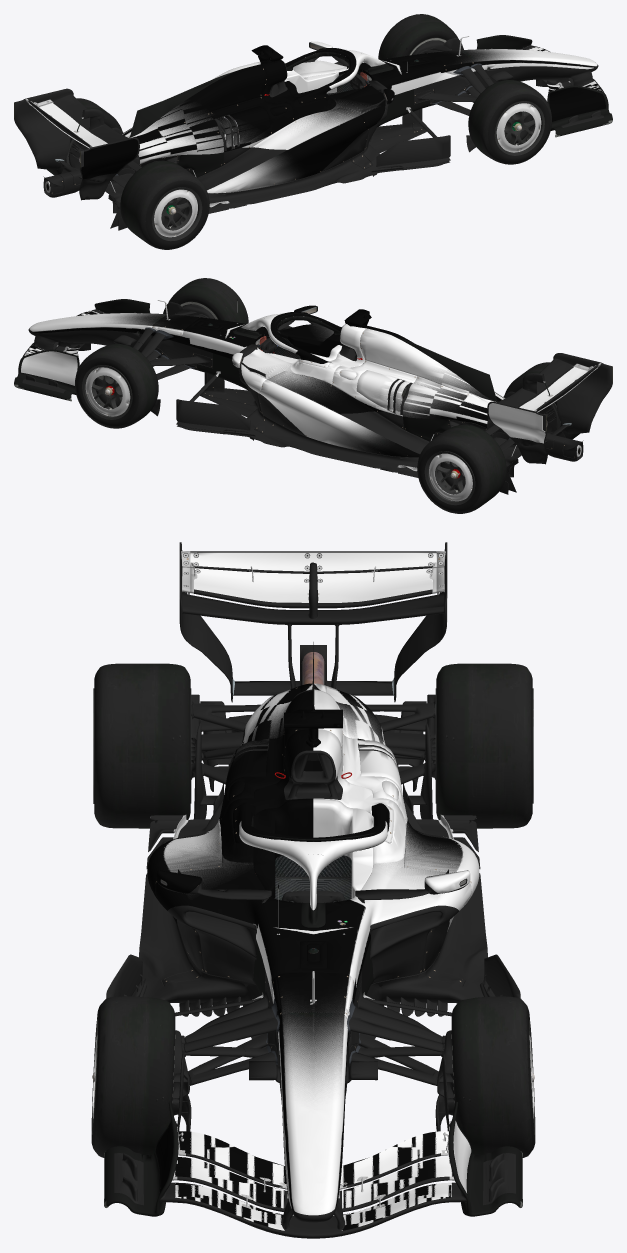
File: cadillac.glb
3 views of the same model, one above another, from view 1: azimuth 30°, elevation 25°; view 2: azimuth 150°, elevation 25°; view 3: azimuth 270°, elevation 25° (orthographic). The views are drawn at different scales.
Visible parts, largest first — view 1: Object_7, Object_5, Object_18, Object_10, Object_16, Object_19, Object_12, Object_15; view 2: Object_7, Object_5, Object_18, Object_10, Object_16, Object_19, Object_12, Object_15; view 3: Object_7, Object_5, Object_18, Object_10, Object_12, Object_19, Object_15, Object_16.
Part boxes in pixels (x1,y1,x2,y2): Object_7: [33, 41, 612, 193]; Object_5: [14, 37, 604, 230]; Object_18: [47, 14, 551, 249]; Object_10: [129, 35, 612, 177]; Object_16: [66, 37, 544, 241]; Object_19: [61, 31, 550, 247]; Object_12: [25, 36, 570, 207]; Object_15: [218, 71, 371, 147]; Object_7: [14, 305, 593, 457]; Object_5: [22, 301, 612, 494]; Object_18: [75, 278, 580, 513]; Object_10: [14, 299, 497, 441]; Object_16: [82, 301, 560, 505]; Object_19: [76, 295, 565, 511]; Object_12: [56, 299, 601, 471]; Object_15: [255, 335, 408, 411]; Object_7: [104, 552, 522, 1230]; Object_5: [106, 543, 520, 1238]; Object_18: [93, 663, 533, 1157]; Object_10: [104, 642, 522, 1216]; Object_12: [150, 551, 476, 1209]; Object_19: [91, 675, 535, 1148]; Object_15: [255, 744, 454, 955]; Object_16: [91, 688, 535, 1134].
Size of the model in its own units: 5.54 by 1.23 by 1.94.
13 materials, 11 textured.
